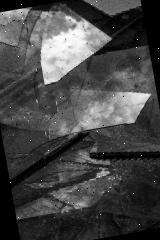glass: (34, 150, 160, 240)
